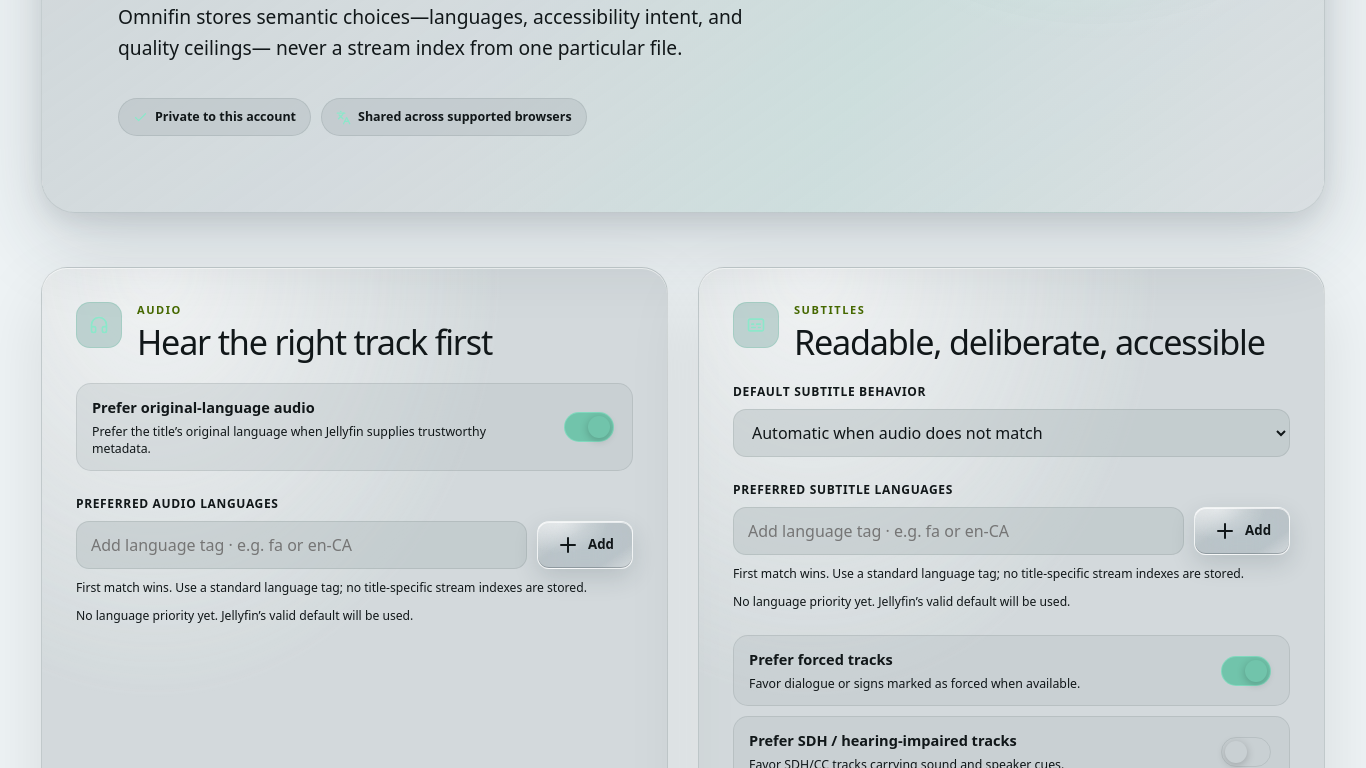
it: PlaybackPreferencesPanel › keeps a dirty draft when another session saved first
(page scrolled)
Step 1. Click the switch labelled "Prefer original-language audio" → (589, 427), box x1=564 y1=412 x2=614 y2=442
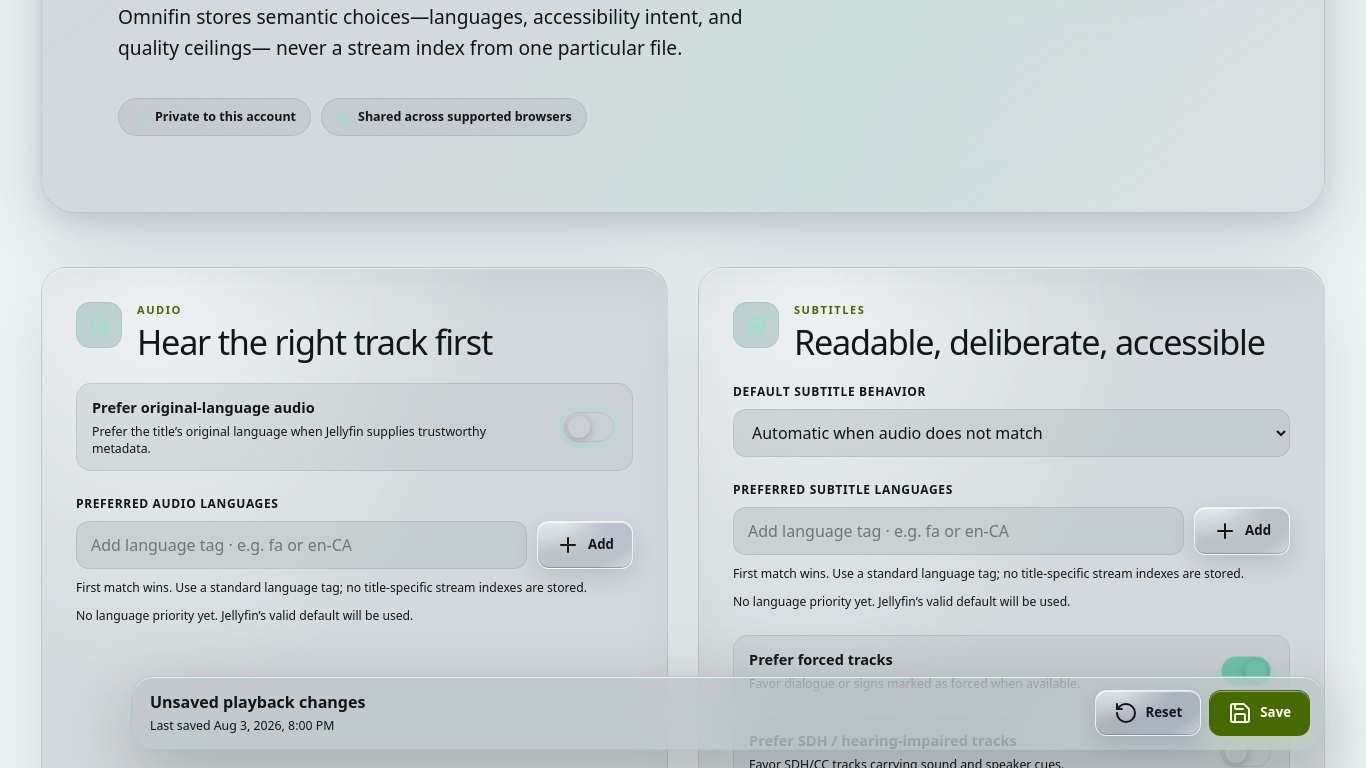
Step 2. Click the button with aria-label "Save playback profile" → (1260, 713), box x1=1209 y1=690 x2=1310 y2=736
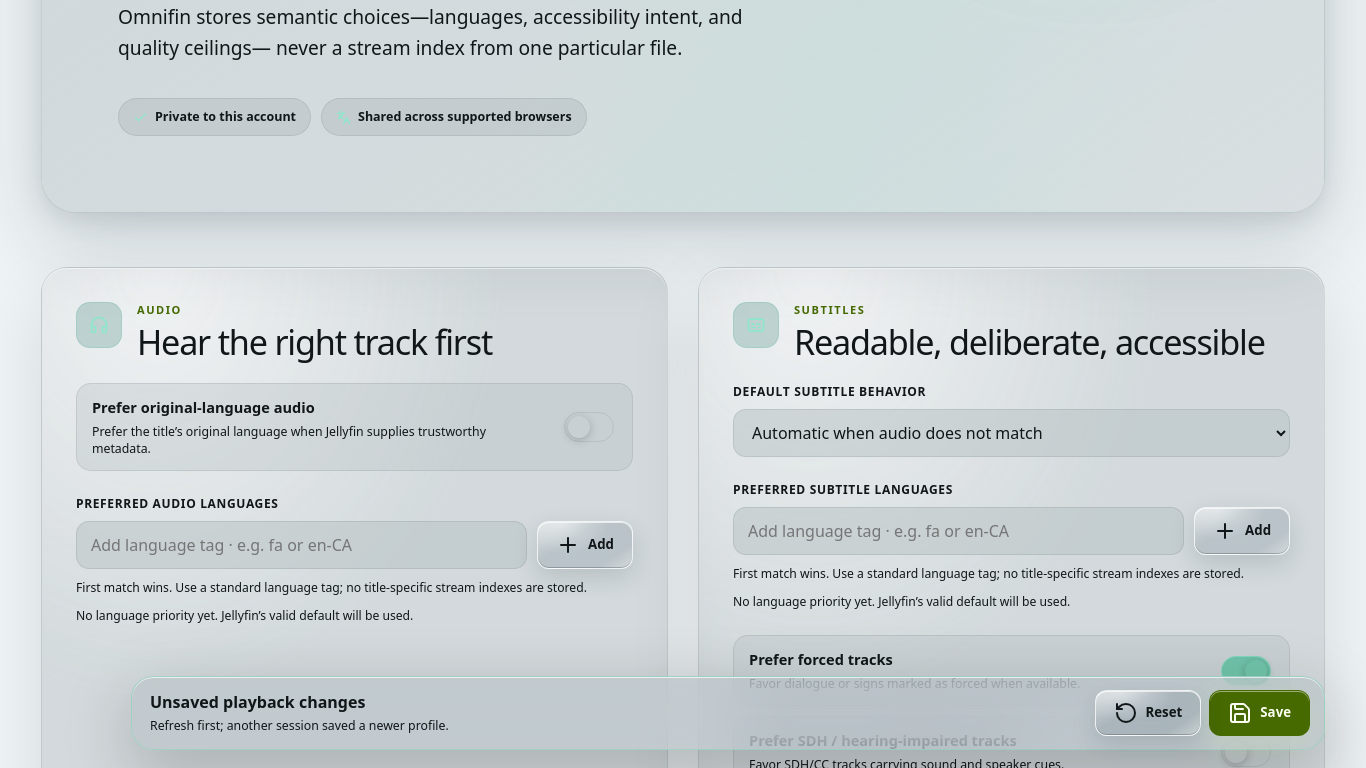
Result: the text "Unsaved playback changes" is shown at x1=150 y1=691 x2=365 y2=713
Result: the button with aria-label "Save playback profile" is enabled at x1=1209 y1=690 x2=1310 y2=736
Result: the text "Refresh first; another session saved a newer profile." is shown at x1=150 y1=717 x2=449 y2=736
